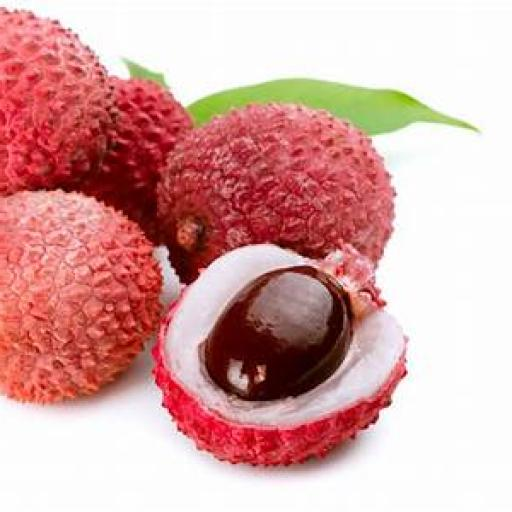lychee: (153, 245, 405, 465), (158, 105, 393, 281), (0, 192, 159, 402), (0, 9, 111, 194), (80, 77, 191, 244)
